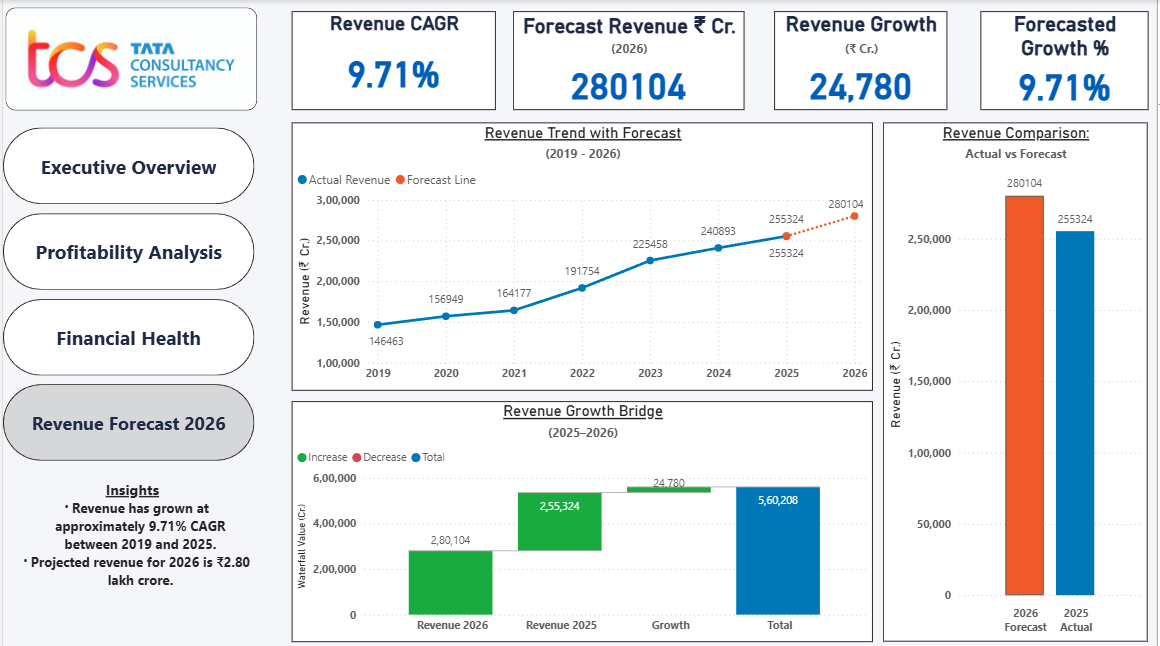

The page's visual inventory and layout, read from the dashboard file:
{"tool":"powerbi","page":{"name":"Revenue Forecast 2026","canvas":[1280,720],"ordinal":3},"visuals":[{"type":"lineChart","title":"Revenue Trend with Forecast ","fields":{"Category":["Sheet1.Year"],"Y":["Quarters.Actual Revenue","Annual.Forecast Line"]},"box":[319.7,135.8,644.9,297.8],"z":0},{"type":"card","title":"Forecast Revenue ₹ Cr. ","fields":{"Values":["Annual.Forcast Revenue"]},"box":[565.4,12.3,256.6,109.8],"z":1000},{"type":"card","title":"Revenue CAGR","fields":{"Values":["Annual.Revenue CAGR"]},"box":[319.7,12.3,226.4,109.8],"z":2000},{"type":"textbox","box":[6.7,526.7,273.3,151.7],"z":3000},{"type":"image","box":[2.9,8.6,279.4,114],"z":4000},{"type":"pageNavigator","box":[0,141.1,279.4,373.5],"z":5000},{"type":"card","title":"Revenue Growth","fields":{"Values":["Annual.Revenue Growth"]},"box":[856.3,12.3,192.1,109.8],"z":6000},{"type":"card","title":"Forecasted Growth %","fields":{"Values":["Annual.Forecast Growth %"]},"box":[1084.1,12.3,186.6,109.8],"z":7000},{"type":"clusteredColumnChart","title":"Revenue Comparison: ","fields":{"Category":["Revenue Comparison.Year Label"],"Y":["Annual.Revenue Comparison Value"]},"box":[977,135.8,293.7,576.3],"z":8000},{"type":"waterfallChart","title":"Revenue Growth Bridge","fields":{"Category":["Revenue Waterfall.Category"],"Y":["Annual.Waterfall Value"]},"box":[319.7,444.6,644.9,267.6],"z":9000}]}

Visuals, with their boxes in screenshot pixels (x1, y1, x2, y2), scaled from the page's 1280x720 canvas onto the 1160x646 screenshot:
"Revenue Trend with Forecast " lineChart: bbox(290, 122, 874, 389)
"Forecast Revenue ₹ Cr. " card: bbox(512, 11, 745, 110)
"Revenue CAGR" card: bbox(290, 11, 495, 110)
textbox: bbox(6, 473, 254, 609)
image: bbox(3, 8, 256, 110)
pageNavigator: bbox(0, 127, 253, 462)
"Revenue Growth" card: bbox(776, 11, 950, 110)
"Forecasted Growth %" card: bbox(982, 11, 1152, 110)
"Revenue Comparison: " clusteredColumnChart: bbox(885, 122, 1152, 639)
"Revenue Growth Bridge" waterfallChart: bbox(290, 399, 874, 639)
